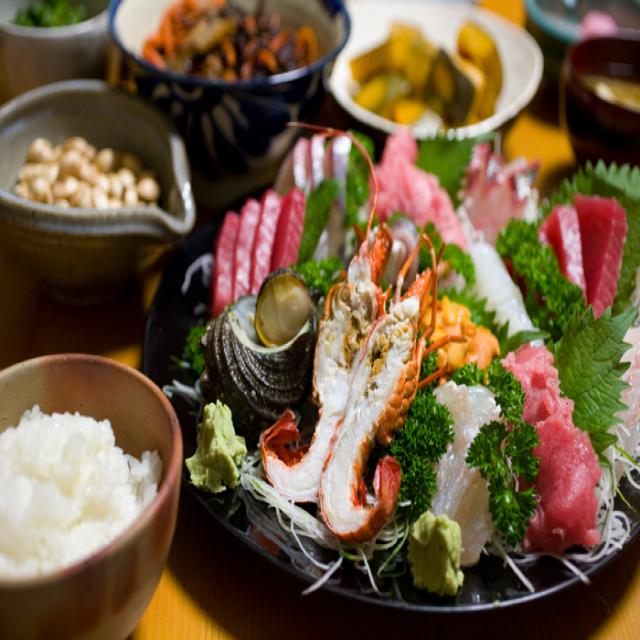刺身生食: (120, 33, 560, 546)
